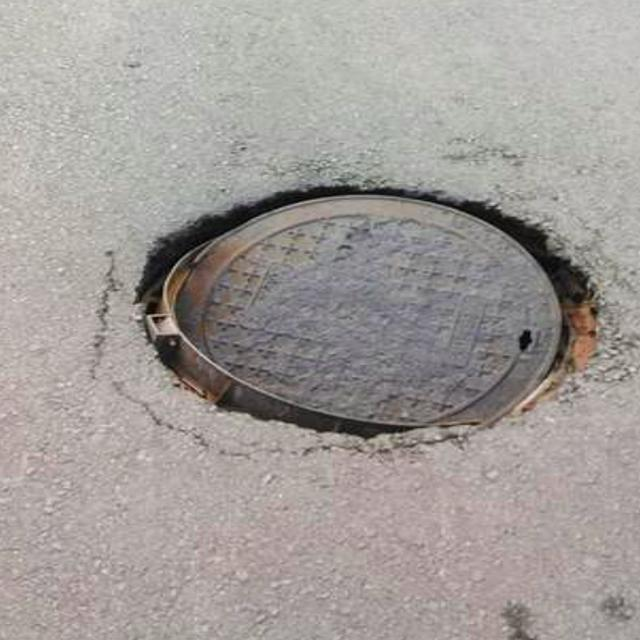circle: (58, 162, 640, 461)
